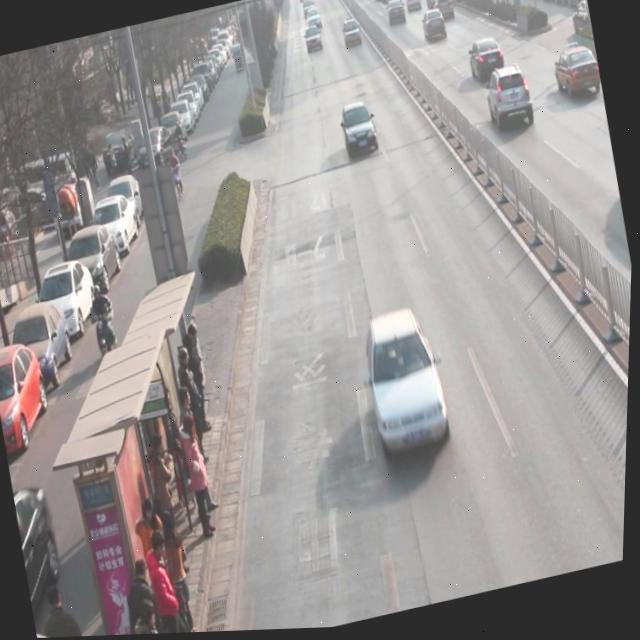car: (360, 308, 459, 465), (14, 480, 75, 614), (482, 67, 540, 140), (550, 42, 602, 108), (338, 101, 382, 165), (466, 39, 509, 89), (419, 11, 449, 50), (568, 2, 593, 37), (340, 19, 364, 55), (385, 0, 408, 31), (303, 28, 324, 58), (433, 0, 456, 27), (306, 10, 323, 33), (404, 0, 423, 18), (424, 0, 445, 14)
